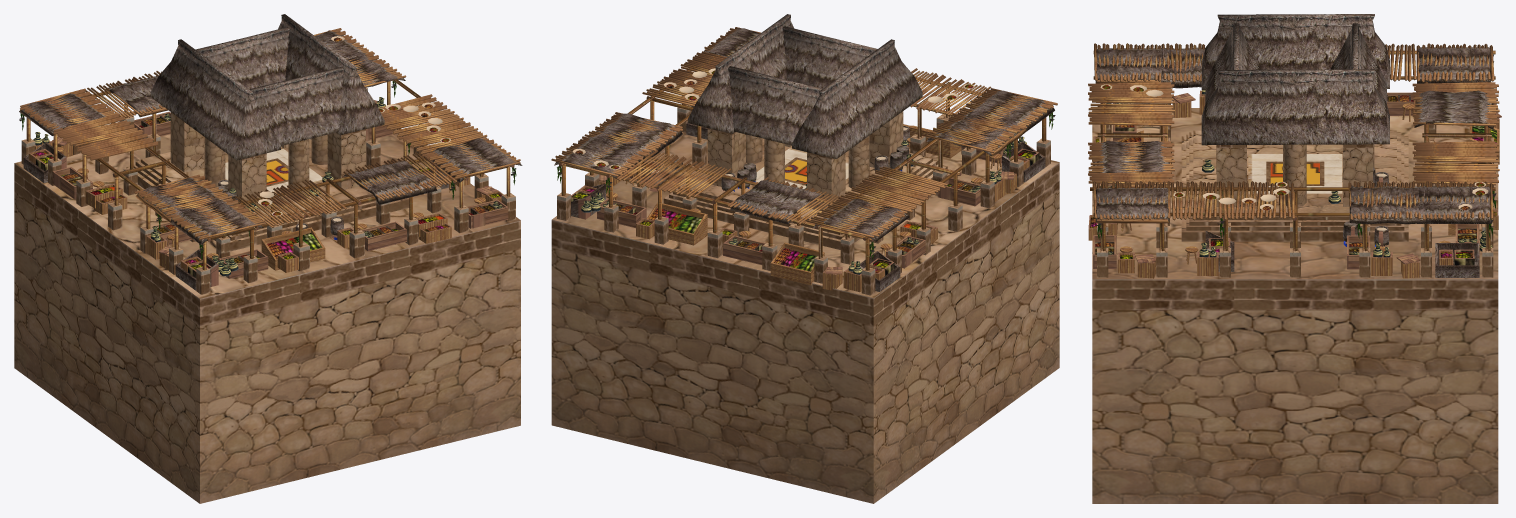
The model's file is tara_market.dae.
The picture shows the model from 3 angles, left to right: view 1: azimuth 30°, elevation 25°; view 2: azimuth 150°, elevation 25°; view 3: azimuth 270°, elevation 25°; orthographic projection. The views are drawn at different scales.
Visible parts, largest first — view 1: market; view 2: market; view 3: market.
Part boxes in pixels (x1=…): market: x1=14, y1=14, x2=522, y2=503; market: x1=551, y1=14, x2=1059, y2=503; market: x1=1088, y1=14, x2=1501, y2=503.
Size of the model in its own units: 28.26 by 28.54 by 28.57.
